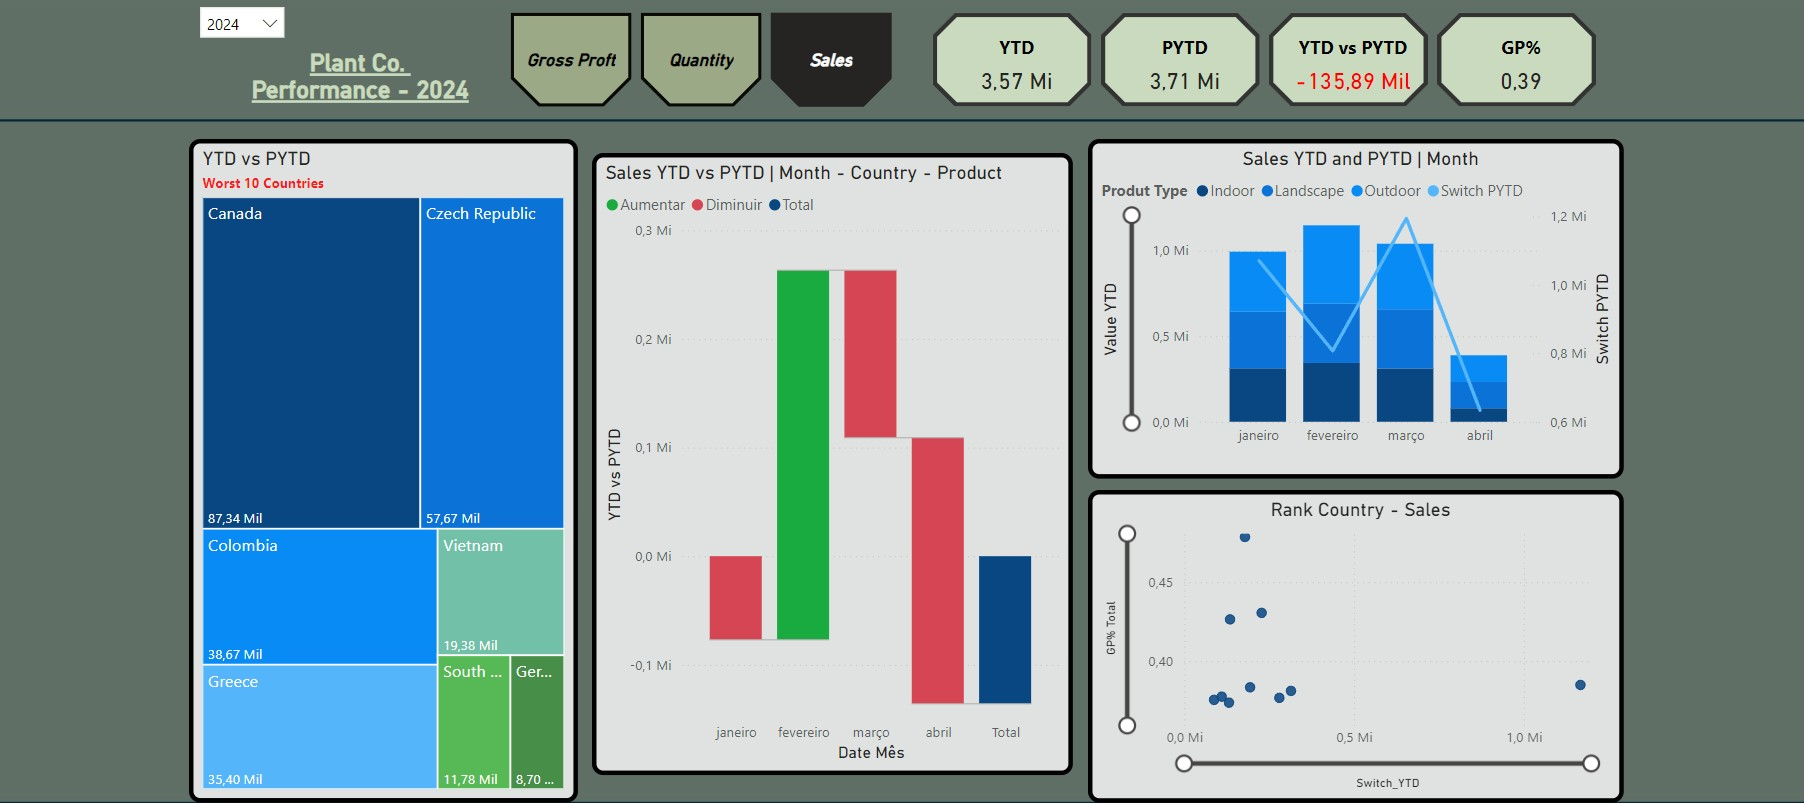

What the dashboard file says about the page in this screenshot:
{"tool":"powerbi","page":{"name":"Página 1","canvas":[1280,720],"ordinal":0},"visuals":[{"type":"cardVisual","fields":{"Data":["_Mesures.Switch_YTD","_Mesures.Switch_PYTD","_Mesures.YTD vs PYTD","_Mesures.GP%"]},"box":[658.8,9.8,602.1,94.9],"z":0},{"type":"advancedSlicerVisual","fields":{"Values":["Slicer_Values.Values"]},"box":[282,9.8,350.2,94.9],"z":1000},{"type":"slicer","fields":{"Values":["Dim_Date.Date.Variation.Hierarquia de datas.Ano"]},"box":[0,0,94.9,61.2],"z":2000},{"type":"treemap","title":"YTD vs PYTD","fields":{"Values":["_Mesures.Switch_YTD"],"Group":["Dim_Accounts.Country"]},"box":[0,127.8,346.8,592.1],"z":3000},{"type":"waterfallChart","fields":{"Y":["_Mesures.YTD vs PYTD"],"Category":["Dim_Date.Date.Variation.Hierarquia de datas.Mês","Dim_Accounts.Country","Dim_Products.Produt_Type","Dim_Products.Product_Name"]},"box":[359.9,140,429.5,555.4],"z":4000},{"type":"lineStackedColumnComboChart","fields":{"Y":["_Mesures.Switch_YTD"],"Y2":["_Mesures.Switch_PYTD"],"Category":["Dim_Date.Date.Variation.Hierarquia de datas.Mês"],"Series":["Dim_Products.Produt_Type"]},"box":[801.6,127.8,478.4,302.6],"z":5000},{"type":"scatterChart","fields":{"Y":["_Mesures.GP%"],"Category":["Dim_Accounts.Country"],"X":["_Mesures.Switch_YTD"]},"box":[801.6,440.8,478.4,279.1],"z":6000},{"type":"card","fields":{"Values":["_Mesures._title company"]},"box":[39.9,37.2,225.2,67.4],"z":7000}]}

Visuals, with their boxes in screenshot pixels (x1, y1, x2, y2):
cardVisual - _Mesures.Switch_YTD x _Mesures.Switch_PYTD: 922,11,1585,115
advancedSlicerVisual - Slicer_Values.Values: 508,11,893,115
slicer - Dim_Date.Date.Variation.Hierarquia de datas.Ano: 197,0,302,67
"YTD vs PYTD" treemap: 197,141,579,792
waterfallChart - _Mesures.YTD vs PYTD x Dim_Date.Date.Variation.Hierarquia de datas.Mês: 593,154,1066,765
lineStackedColumnComboChart - _Mesures.Switch_YTD x _Mesures.Switch_PYTD: 1079,141,1606,474
scatterChart - _Mesures.GP% x Dim_Accounts.Country: 1079,485,1606,792
card - _Mesures._title company: 241,41,489,115
